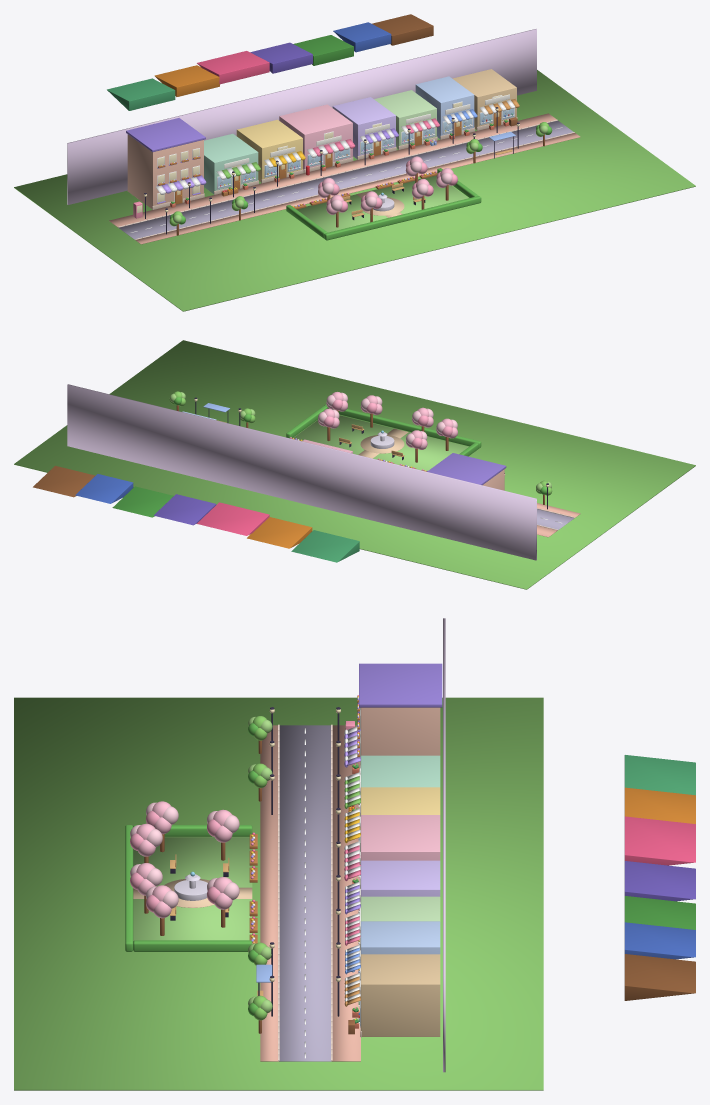
Rendered from city.glb.
3 views of the same model, one above another, from view 1: azimuth 30°, elevation 25°; view 2: azimuth 150°, elevation 25°; view 3: azimuth 270°, elevation 25° (orthographic). The views are drawn at different scales.
Parts seen in each view (by area): view 1: City_static, grp_home_mesh, grp_cafe_mesh, grp_market_mesh, grp_homestore_mesh, grp_boutique_mesh, grp_bookshop_mesh, grp_jeweler_mesh, grp_florist_mesh; view 2: City_static, grp_home_mesh, grp_cafe_mesh, grp_market_mesh, grp_homestore_mesh, grp_boutique_mesh, grp_jeweler_mesh, grp_bookshop_mesh, grp_florist_mesh; view 3: City_static, grp_bookshop_mesh, grp_home_mesh, grp_cafe_mesh, grp_boutique_mesh, grp_market_mesh, grp_jeweler_mesh, grp_homestore_mesh, grp_florist_mesh.
Part boxes in pixels (x1=…): City_static: x1=14, y1=29, x2=695, y2=311; grp_home_mesh: x1=126, y1=118, x2=206, y2=209; grp_cafe_mesh: x1=197, y1=51, x2=355, y2=172; grp_market_mesh: x1=107, y1=78, x2=260, y2=196; grp_homestore_mesh: x1=154, y1=65, x2=305, y2=183; grp_boutique_mesh: x1=250, y1=42, x2=398, y2=159; grp_bookshop_mesh: x1=372, y1=14, x2=519, y2=130; grp_jeweler_mesh: x1=333, y1=22, x2=477, y2=139; grp_florist_mesh: x1=293, y1=35, x2=439, y2=149; City_static: x1=14, y1=340, x2=695, y2=589; grp_home_mesh: x1=427, y1=453, x2=506, y2=490; grp_cafe_mesh: x1=197, y1=439, x2=352, y2=535; grp_market_mesh: x1=291, y1=530, x2=359, y2=562; grp_homestore_mesh: x1=247, y1=517, x2=312, y2=548; grp_boutique_mesh: x1=154, y1=494, x2=216, y2=525; grp_jeweler_mesh: x1=75, y1=411, x2=216, y2=503; grp_bookshop_mesh: x1=33, y1=465, x2=95, y2=497; grp_florist_mesh: x1=112, y1=486, x2=173, y2=517; City_static: x1=14, y1=618, x2=543, y2=1090; grp_bookshop_mesh: x1=344, y1=954, x2=695, y2=1037; grp_home_mesh: x1=344, y1=663, x2=442, y2=773; grp_cafe_mesh: x1=344, y1=815, x2=695, y2=883; grp_boutique_mesh: x1=345, y1=860, x2=695, y2=914; grp_market_mesh: x1=344, y1=755, x2=695, y2=812; grp_jeweler_mesh: x1=345, y1=921, x2=695, y2=974; grp_homestore_mesh: x1=344, y1=787, x2=695, y2=843; grp_florist_mesh: x1=345, y1=896, x2=695, y2=972.
Size of the model in its own units: 70 by 8.13 by 51.5.
